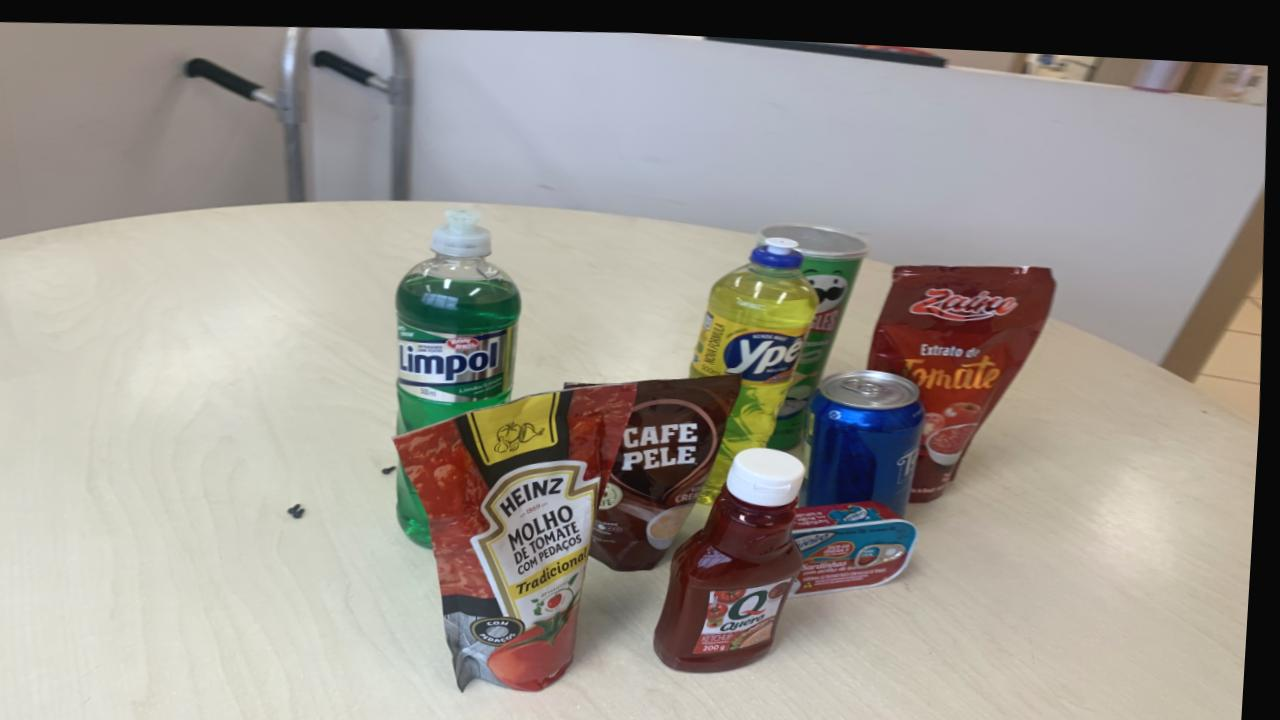Coffee-Pantry_Items: (596, 366, 746, 564)
Detergent-Cleanup_Items: (694, 229, 820, 494), (399, 203, 524, 428), (404, 466, 436, 541)
Ketchup-Pantry_Items: (663, 439, 810, 664)
Pringles-Snacks: (760, 214, 873, 440)
Tomato_Sauce-Pantry_Items: (400, 377, 641, 684), (871, 255, 1058, 493)
Tonic-Drinks: (807, 359, 928, 504)
Tuna_Can-Pantry_Items: (799, 493, 924, 588)
